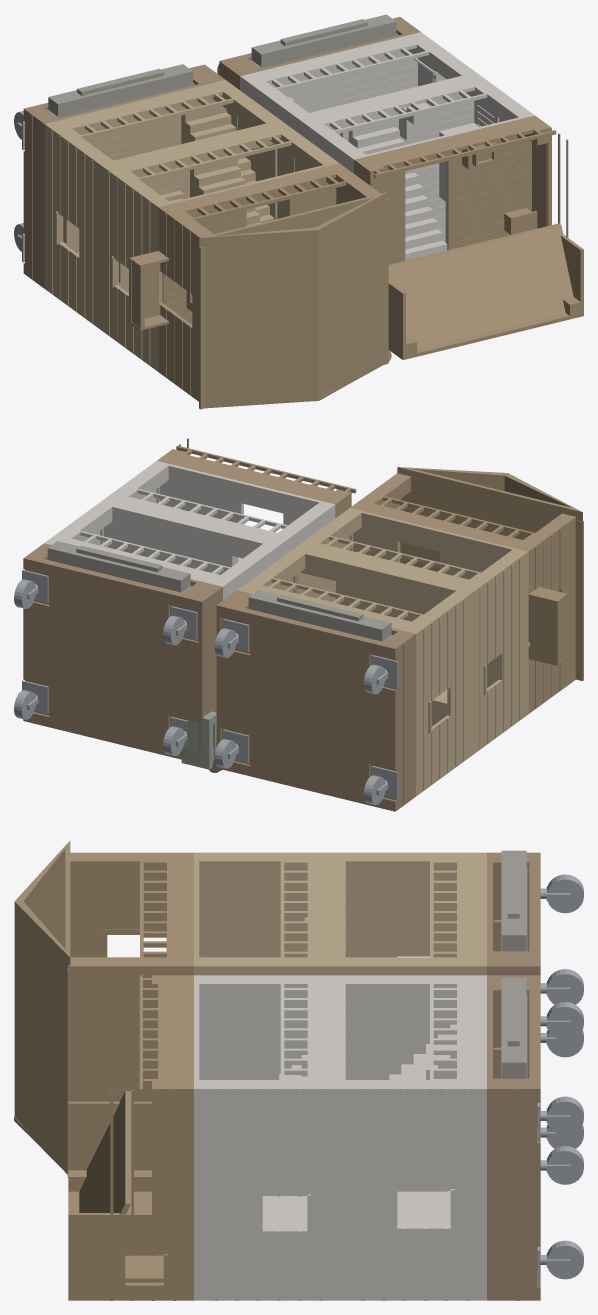
The model's file is assembly.glb.
The picture shows the model from 3 angles, top to bottom: view 1: azimuth 30°, elevation 25°; view 2: azimuth 150°, elevation 25°; view 3: azimuth 270°, elevation 25°; orthographic projection. The views are drawn at different scales.
Parts seen in each view (by area): view 1: cf_hearth_attic, cf_garden_loft, cf_hearth_ground, cf_hearth_upper, cf_garden_upper, cf_garden_ground, cf_hearth_base, cf_garden_drawer, cf_hearth_drawer, cf_garden_base; view 2: cf_hearth_base, cf_garden_base, cf_hearth_attic, cf_hearth_upper, cf_hearth_ground, cf_garden_upper, cf_garden_ground, cf_garden_loft, cf_hearth_drawer, cf_garden_drawer, cf_coupon_drawer_rail, caster-hearth-0 (+8 smaller); view 3: cf_garden_ground, cf_garden_upper, cf_hearth_attic, cf_garden_loft, cf_hearth_ground, cf_hearth_upper, cf_garden_base, cf_hearth_base, cf_hearth_drawer, cf_garden_drawer, caster-garden-1, caster-garden-3 (+6 smaller).
Part boxes in pixels (x1=…): cf_hearth_attic: x1=129, y1=163, x2=388, y2=409; cf_garden_loft: x1=354, y1=115, x2=583, y2=359; cf_hearth_ground: x1=44, y1=80, x2=282, y2=330; cf_hearth_upper: x1=101, y1=121, x2=338, y2=371; cf_garden_upper: x1=297, y1=74, x2=534, y2=260; cf_garden_ground: x1=240, y1=32, x2=477, y2=136; cf_hearth_base: x1=23, y1=64, x2=225, y2=288; cf_garden_drawer: x1=250, y1=14, x2=397, y2=68; cf_hearth_drawer: x1=47, y1=64, x2=194, y2=118; cf_garden_base: x1=219, y1=17, x2=420, y2=89; cf_hearth_base: x1=209, y1=590, x2=415, y2=811; cf_garden_base: x1=23, y1=543, x2=222, y2=764; cf_hearth_attic: x1=350, y1=467, x2=583, y2=713; cf_hearth_upper: x1=294, y1=508, x2=528, y2=754; cf_hearth_ground: x1=237, y1=549, x2=472, y2=796; cf_garden_upper: x1=101, y1=461, x2=335, y2=564; cf_garden_ground: x1=44, y1=502, x2=279, y2=600; cf_garden_loft: x1=157, y1=438, x2=356, y2=517; cf_hearth_drawer: x1=248, y1=590, x2=392, y2=641; cf_garden_drawer: x1=47, y1=541, x2=191, y2=592; cf_coupon_drawer_rail: x1=187, y1=711, x2=216, y2=769; caster-hearth-0: x1=214, y1=729, x2=249, y2=768; cf_garden_ground: x1=340, y1=975, x2=486, y2=1300; cf_garden_upper: x1=194, y1=975, x2=340, y2=1300; cf_hearth_attic: x1=14, y1=840, x2=193, y2=1177; cf_garden_loft: x1=68, y1=975, x2=193, y2=1300; cf_hearth_ground: x1=340, y1=852, x2=486, y2=975; cf_hearth_upper: x1=194, y1=852, x2=340, y2=975; cf_garden_base: x1=487, y1=975, x2=540, y2=1300; cf_hearth_base: x1=487, y1=852, x2=540, y2=975; cf_hearth_drawer: x1=501, y1=850, x2=527, y2=951; cf_garden_drawer: x1=501, y1=978, x2=527, y2=1078; caster-garden-1: x1=537, y1=1240, x2=583, y2=1285; caster-garden-3: x1=537, y1=1096, x2=583, y2=1141.
Bounding box in the file's own units: 405 × 181 × 381.
